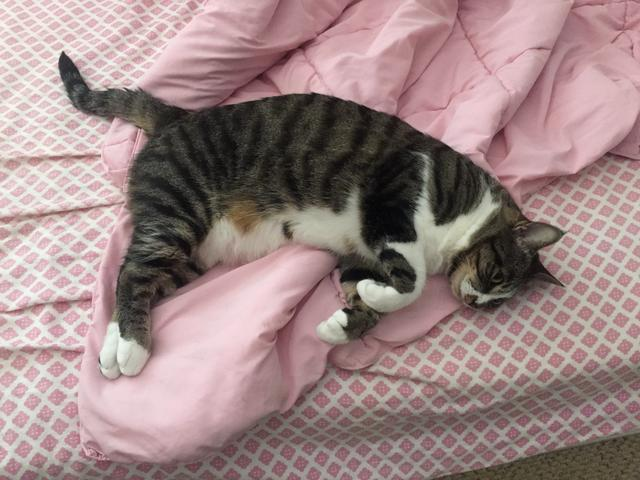playdoh: (56, 51, 566, 375)
